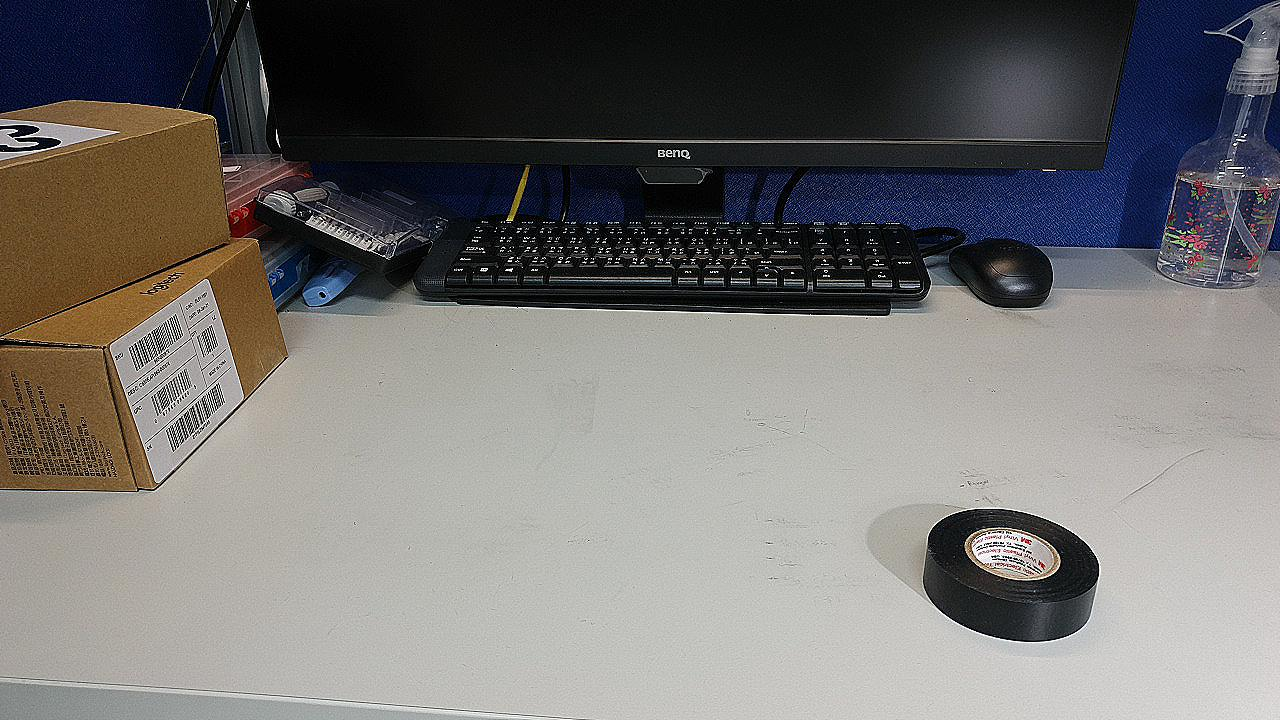long: (877, 358, 1187, 430)
